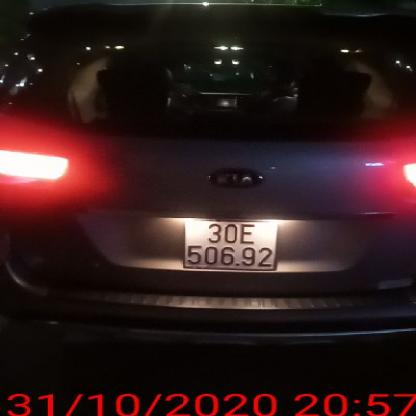biensoxe: (181, 218, 278, 272)
